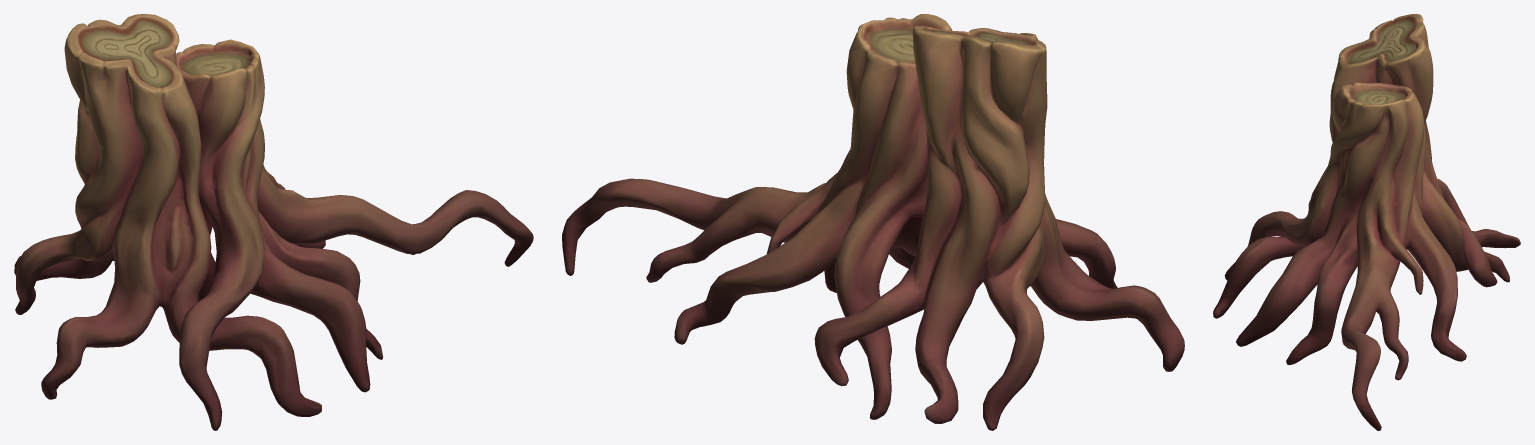
Rendered from bog_giant_tree_trunk.glb.
3 views of the same model, side by side, from view 1: azimuth 30°, elevation 25°; view 2: azimuth 150°, elevation 25°; view 3: azimuth 270°, elevation 25° (orthographic). The views are drawn at different scales.
Visible parts, largest first — view 1: SM_XBOG_STL_GiantTreeTrunk_01B; view 2: SM_XBOG_STL_GiantTreeTrunk_01B; view 3: SM_XBOG_STL_GiantTreeTrunk_01B.
Boxes of the visible parts, x1,y1,x2,y2 form: SM_XBOG_STL_GiantTreeTrunk_01B: (14, 14, 533, 430); SM_XBOG_STL_GiantTreeTrunk_01B: (562, 14, 1184, 430); SM_XBOG_STL_GiantTreeTrunk_01B: (1213, 14, 1520, 430).
Size of the model in its own units: 42.85 by 26.14 by 27.71.
Materials: 1 (1 with a texture image).
